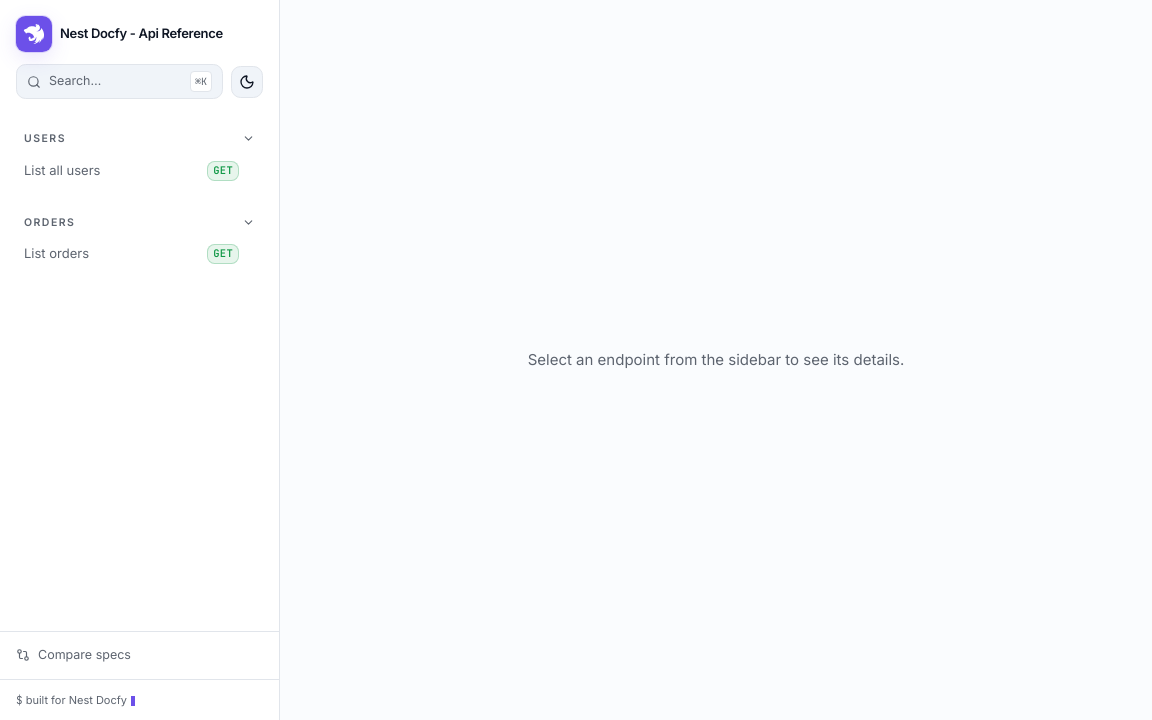
it: <Shell /> › toggles the theme without unmounting the page
This screenshot has width=1152, height=720.
Click the button named "light mode". click: (247,82)
box: [231,66,263,98]
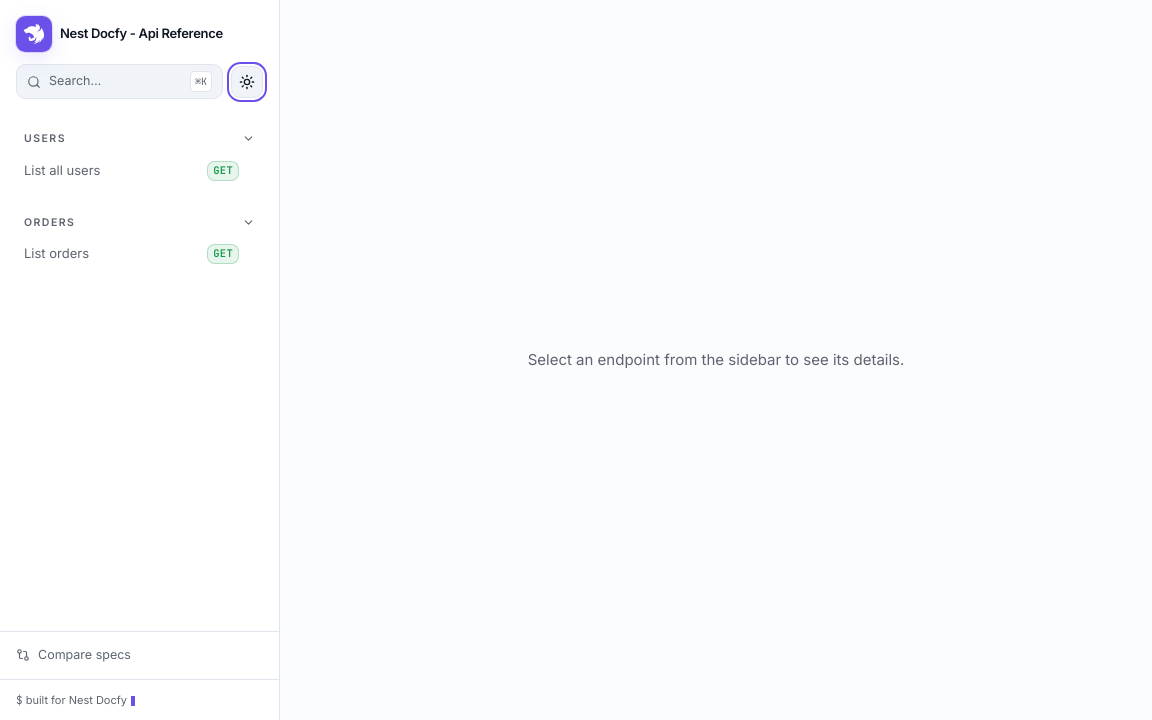
Now the button named "dark mode" is shown, box [231,66,263,98]
